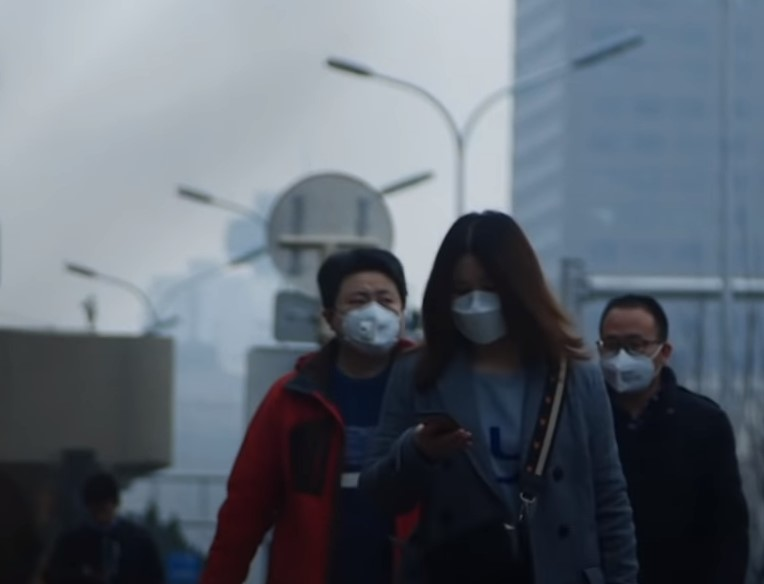face_with_mask: (438, 217, 520, 345), (323, 257, 407, 359), (598, 305, 670, 395)
